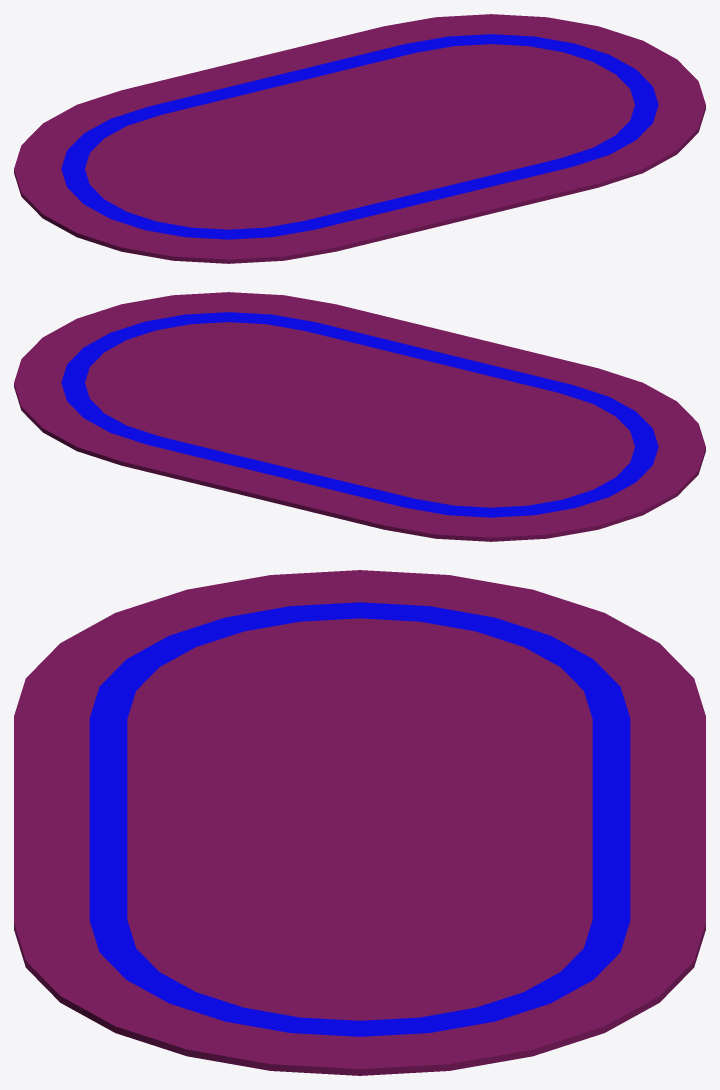
The model's file is rugRounded.glb.
3 views of the same model, one above another, from view 1: azimuth 30°, elevation 25°; view 2: azimuth 150°, elevation 25°; view 3: azimuth 270°, elevation 25° (orthographic). The views are drawn at different scales.
Parts seen in each view (by area): view 1: rugRounded; view 2: rugRounded; view 3: rugRounded.
Boxes of the visible parts, left/top/right/bottom form: rugRounded: left=14, top=14, right=705, bottom=263; rugRounded: left=14, top=292, right=705, bottom=541; rugRounded: left=14, top=570, right=705, bottom=1075.
Bounding box in the file's own units: 2.91 × 0.0185 × 1.71.
